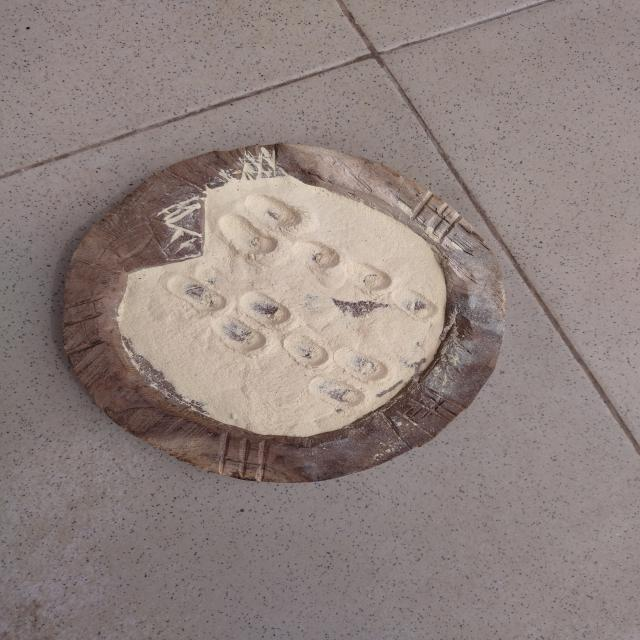double: (215, 192, 301, 258), (308, 352, 390, 406), (216, 293, 292, 351)
single: (158, 271, 235, 316), (388, 287, 444, 328), (278, 332, 334, 372), (344, 258, 397, 296), (295, 238, 344, 274)
